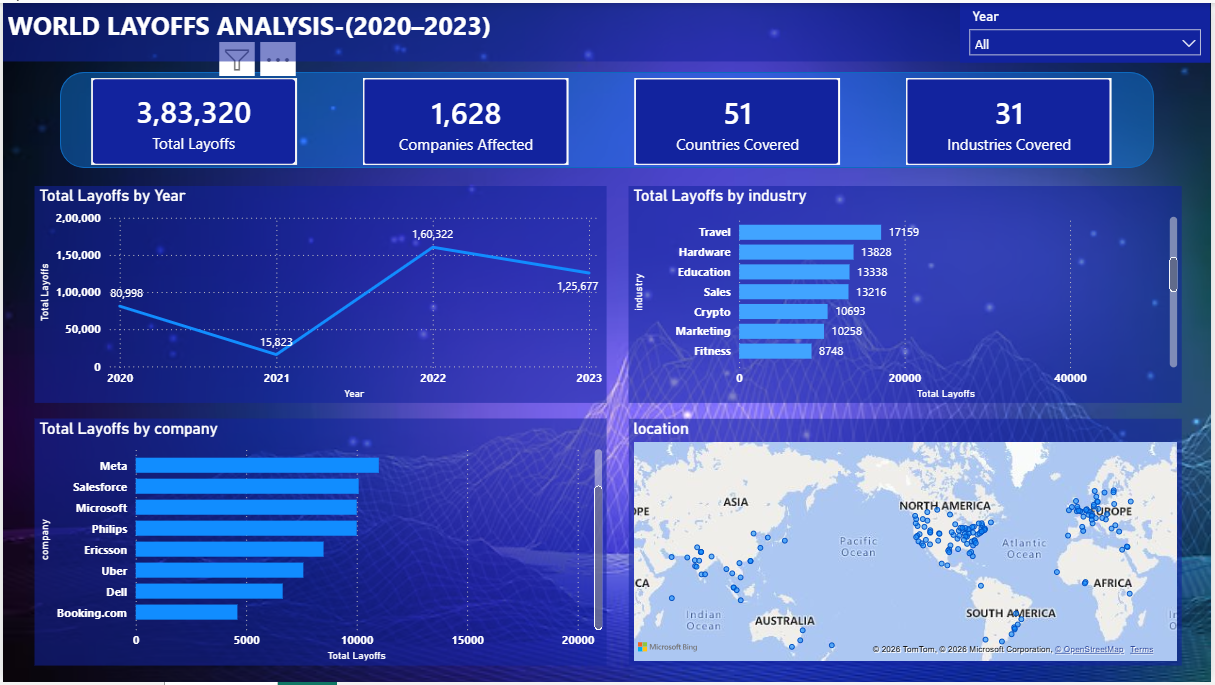

The dashboard page shown, as its layout file describes it:
{"tool":"powerbi","page":{"name":"Page 1","canvas":[1281,720],"ordinal":0},"visuals":[{"type":"shape","box":[60,73.3,1160,101.7],"z":0},{"type":"cardVisual","fields":{"Data":["layoffs_cleaned2.Total Laid Off"]},"box":[93.8,79.5,217.9,92.3],"z":1000},{"type":"textbox","box":[0,0,1280,61.7],"z":2000},{"type":"lineChart","fields":{"Y":["layoffs_cleaned2.Total Laid Off"],"Category":["layoffs_cleaned2.date.Variation.Date Hierarchy.Year"]},"box":[33.3,193.3,606.7,230],"z":3000},{"type":"clusteredBarChart","fields":{"Category":["layoffs_cleaned2.company"],"Y":["layoffs_cleaned2.Total Laid Off"]},"box":[33.3,440,606.7,261.7],"z":4000},{"type":"clusteredBarChart","fields":{"Category":["layoffs_cleaned2.industry"],"Y":["layoffs_cleaned2.Total Laid Off"]},"box":[663.3,193.3,586.7,230],"z":5000},{"type":"map","fields":{"Category":["layoffs_cleaned2.location"]},"box":[663.3,440,586.7,261.7],"z":6000},{"type":"cardVisual","fields":{"Data":["layoffs_cleaned2.Companies Affected"]},"box":[381.7,79.5,217.9,92.3],"z":7000},{"type":"cardVisual","fields":{"Data":["layoffs_cleaned2.Countries"]},"box":[669.6,79.5,217.9,92.3],"z":8000},{"type":"cardVisual","fields":{"Data":["layoffs_cleaned2.Industries Affected"]},"box":[957.5,79.5,217.9,92.3],"z":9000},{"type":"slicer","fields":{"Values":["layoffs_cleaned2.date.Variation.Date Hierarchy.Year"]},"box":[1015,0,265,63.3],"z":10000}]}

Visuals, with their boxes in screenshot pixels (x1, y1, x2, y2), scaled from the page's 1281x720 canvas onto the 1215x685 screenshot:
shape: (x1=57, y1=70, x2=1157, y2=166)
cardVisual - layoffs_cleaned2.Total Laid Off: (x1=89, y1=76, x2=296, y2=163)
textbox: (x1=0, y1=0, x2=1214, y2=59)
lineChart - layoffs_cleaned2.Total Laid Off x layoffs_cleaned2.date.Variation.Date Hierarchy.Year: (x1=32, y1=184, x2=607, y2=403)
clusteredBarChart - layoffs_cleaned2.company x layoffs_cleaned2.Total Laid Off: (x1=32, y1=419, x2=607, y2=668)
clusteredBarChart - layoffs_cleaned2.industry x layoffs_cleaned2.Total Laid Off: (x1=629, y1=184, x2=1186, y2=403)
map - layoffs_cleaned2.location: (x1=629, y1=419, x2=1186, y2=668)
cardVisual - layoffs_cleaned2.Companies Affected: (x1=362, y1=76, x2=569, y2=163)
cardVisual - layoffs_cleaned2.Countries: (x1=635, y1=76, x2=842, y2=163)
cardVisual - layoffs_cleaned2.Industries Affected: (x1=908, y1=76, x2=1115, y2=163)
slicer - layoffs_cleaned2.date.Variation.Date Hierarchy.Year: (x1=963, y1=0, x2=1214, y2=60)
